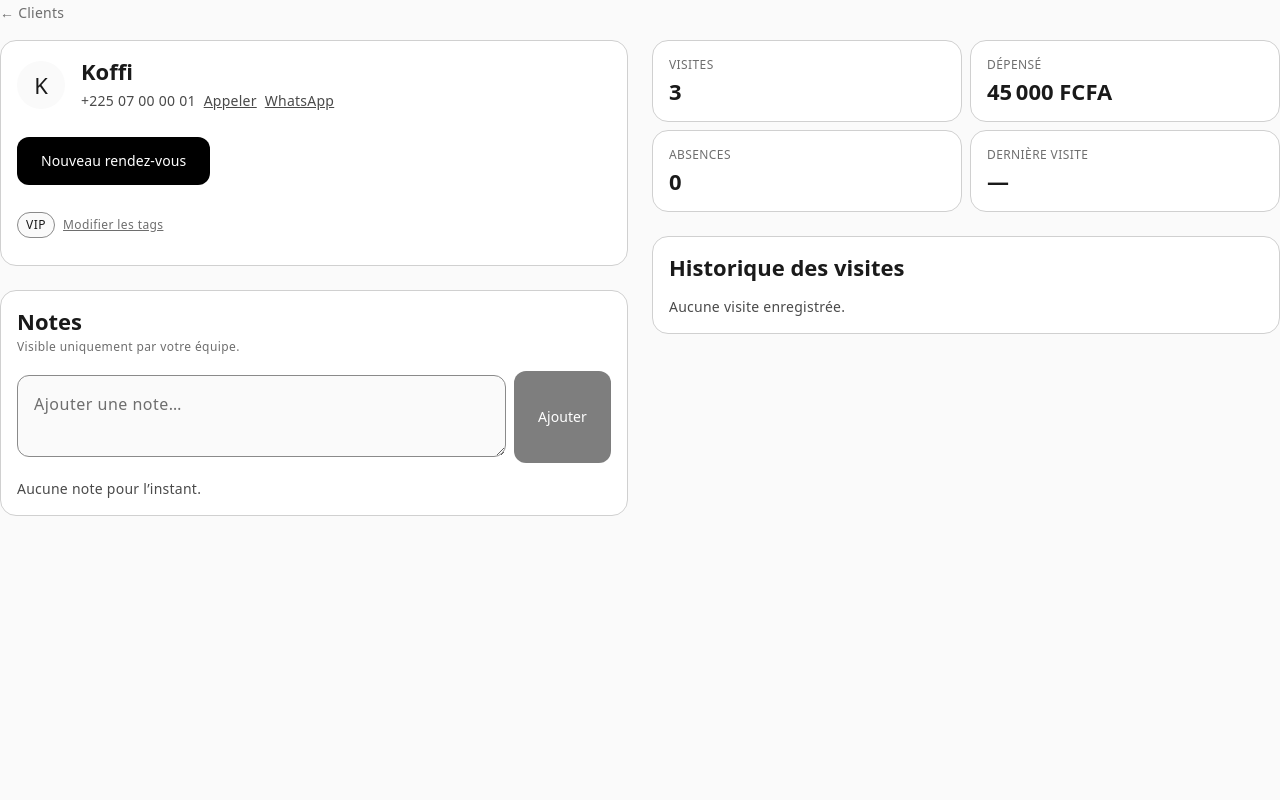
Test: ClientCardClient — the phone line › a refused stored number names THIS card — the dialog is handed its id
Click the button "Nouveau rendez-vous" at (114, 161), box [17,137,210,185]
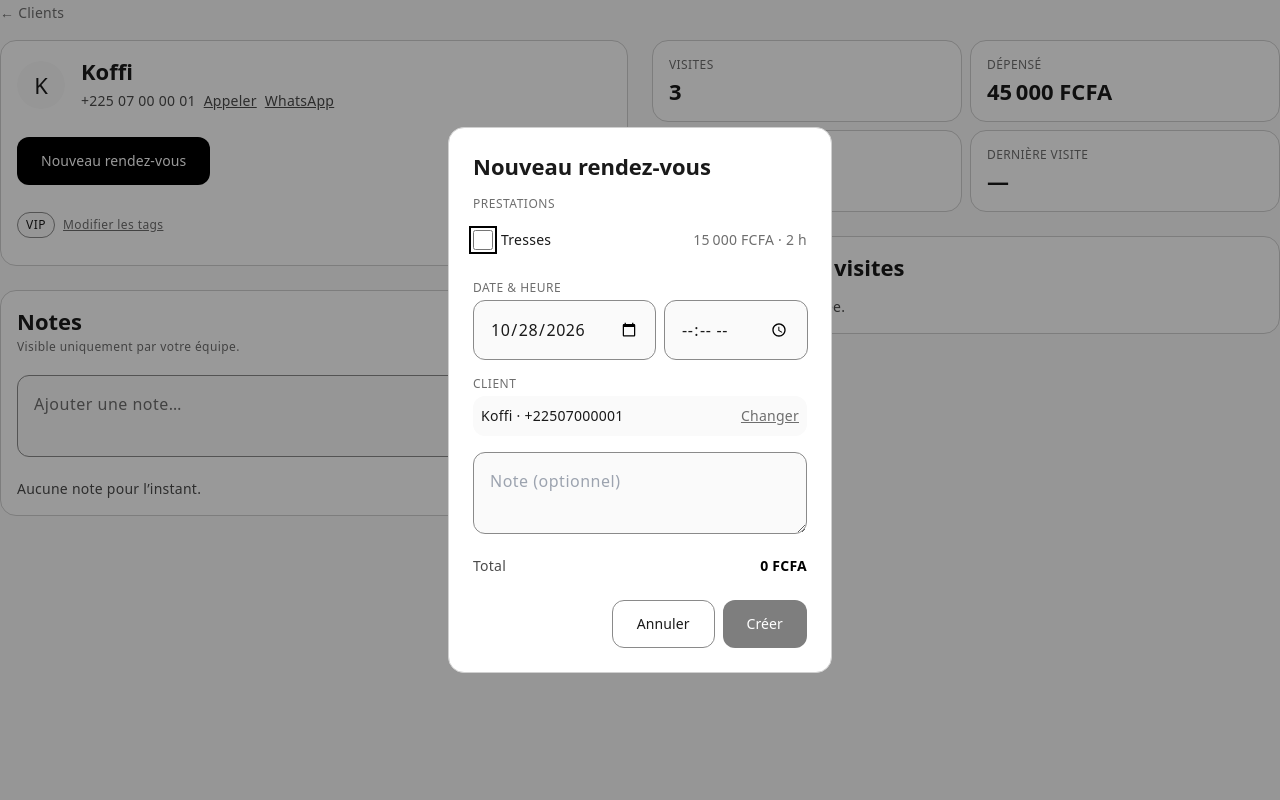
Click the checkbox labelled "Tresses 15 000 FCFA · 2 h" at (483, 240), box [473,230,493,250]
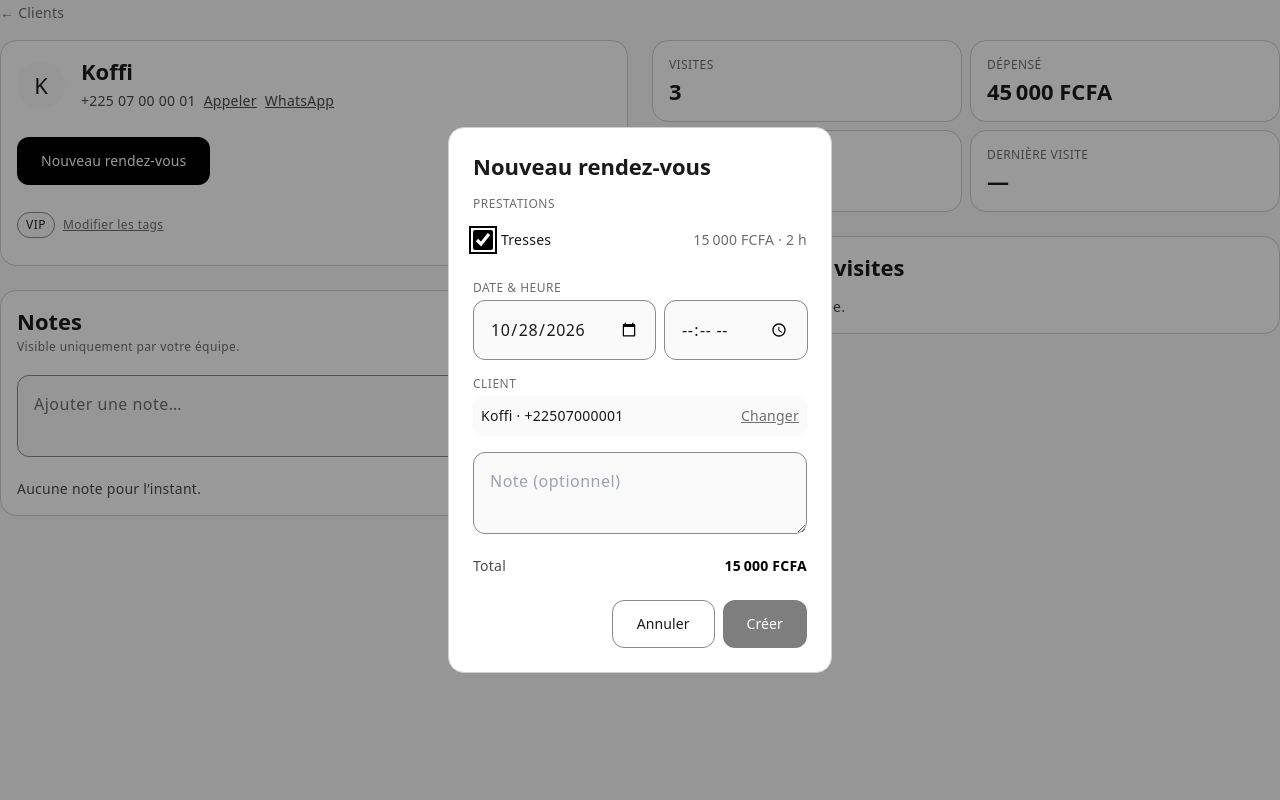
Type "2099-01-15" into the date field named "Date du rendez-vous" at (564, 330), box [473,300,656,360]
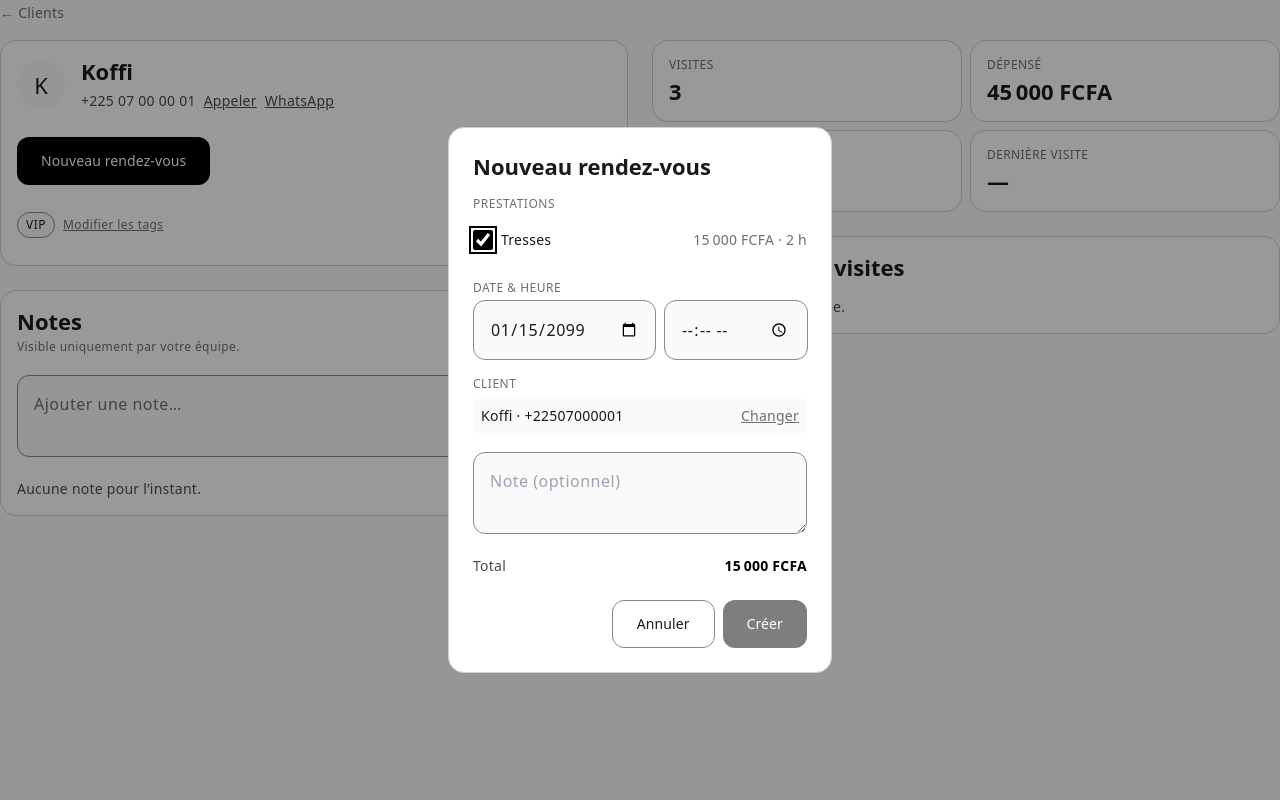
Type "14:30" into the time field named "Heure du rendez-vous" at (736, 330), box [664,300,808,360]
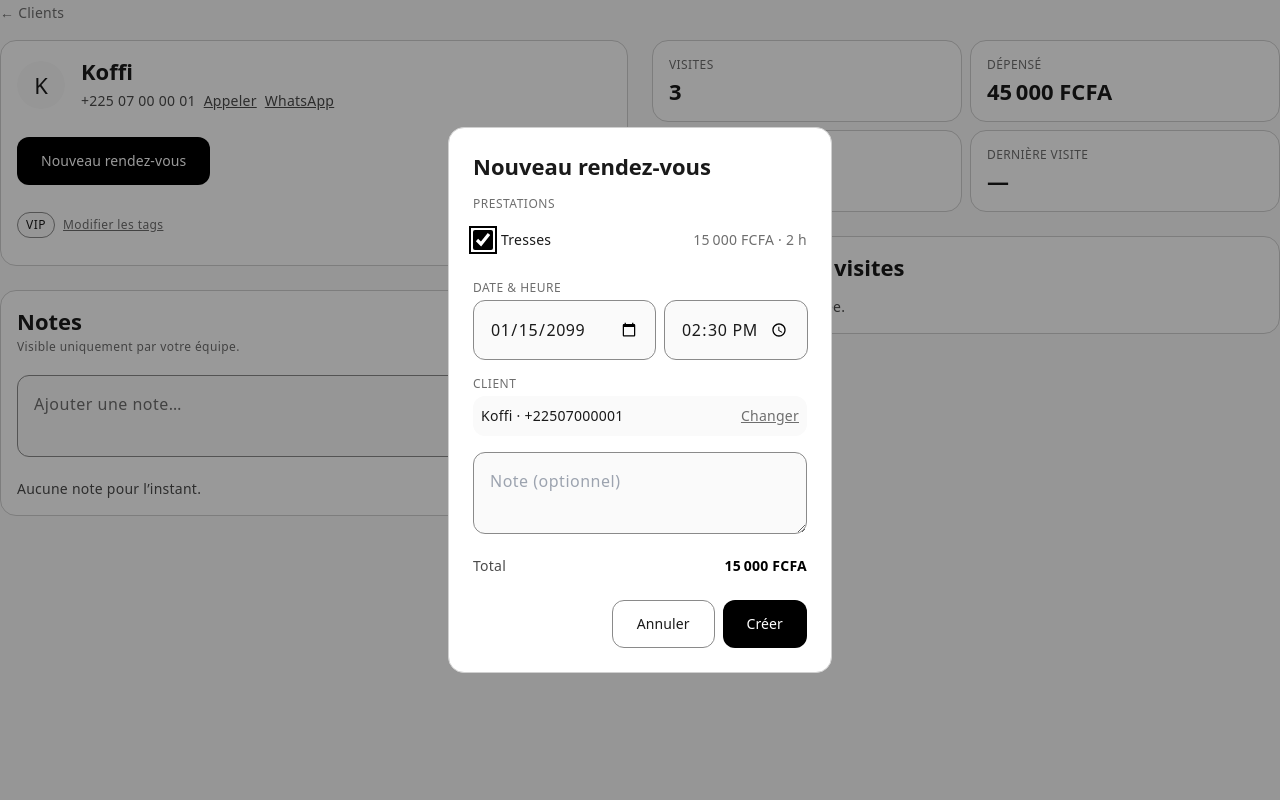
Click the button "Créer" at (765, 624), box [723,600,807,648]
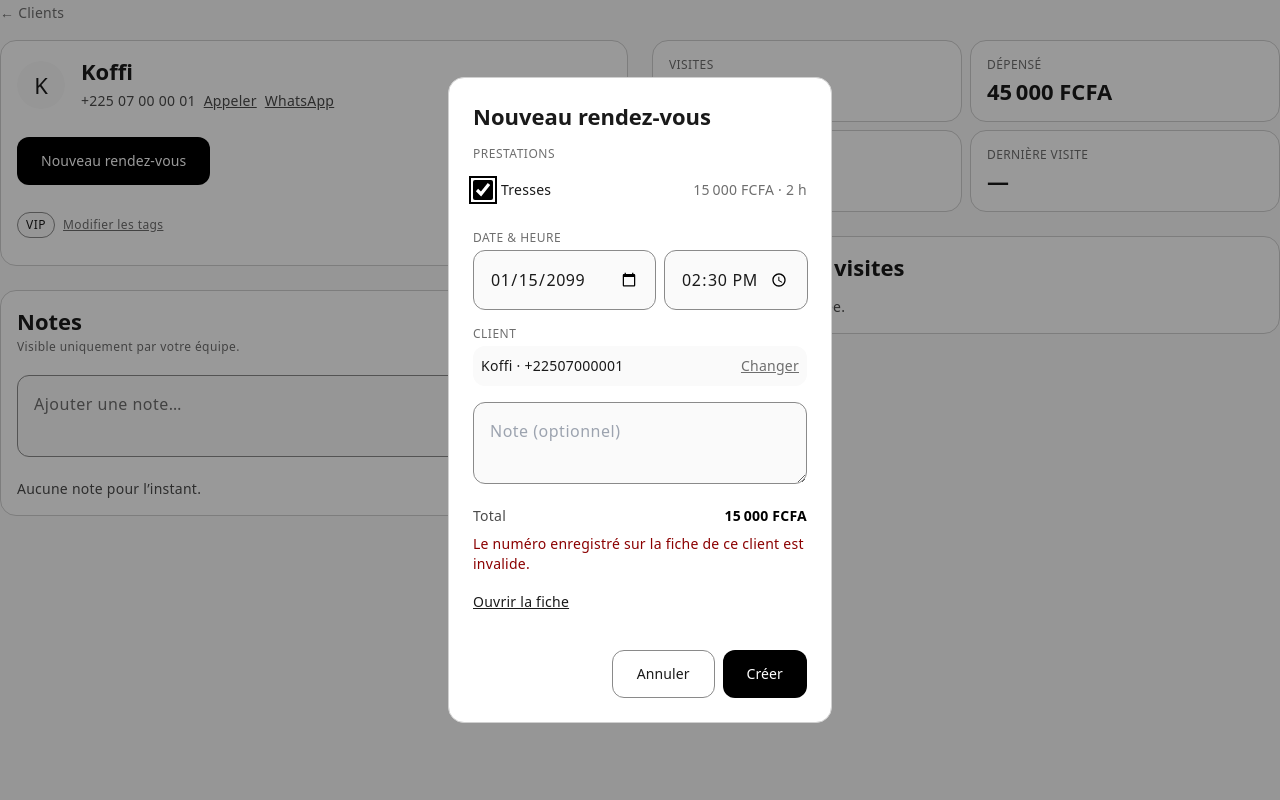
Now the text "Le numéro enregistré sur la fiche de ce client est invalide." is shown, box [473,534,807,574]
